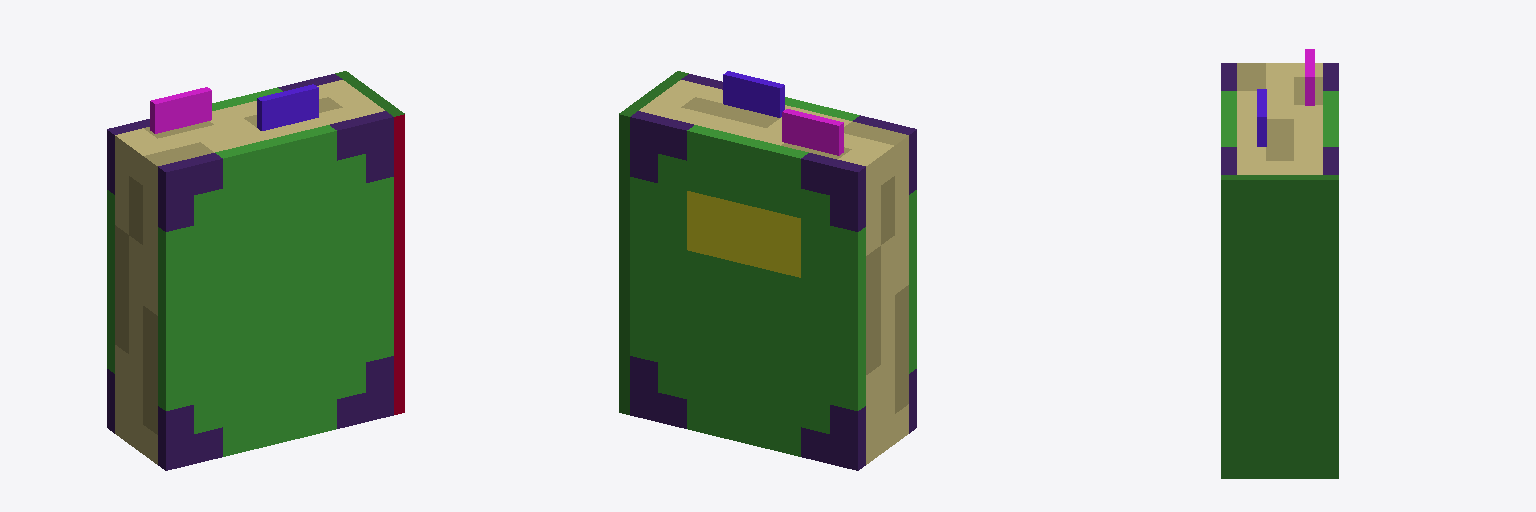
3 views of the same model, side by side, from view 1: azimuth 30°, elevation 25°; view 2: azimuth 150°, elevation 25°; view 3: azimuth 270°, elevation 25° (orthographic).
Parts seen in each view (by area): view 1: BackCover, Pages, Spine, FrontCover, Bookmark1, Bookmark3; view 2: FrontCover, Pages, Spine, BackCover, Bookmark3, Bookmark1; view 3: Spine, Pages, BackCover, FrontCover, Bookmark1, Bookmark3.
Part boxes in pixels (x1,y1,x2,y2): BackCover: (158,111,393,470); Pages: (115,80,384,464); Spine: (335,71,404,414); FrontCover: (107,74,342,433); Bookmark1: (257,84,318,130); Bookmark3: (150,87,211,133); FrontCover: (630,111,865,470); Pages: (639,80,908,464); Spine: (619,71,688,414); BackCover: (681,74,916,433); Bookmark3: (782,109,843,155); Bookmark1: (723,71,784,117); Spine: (1221,175,1338,478); Pages: (1237,63,1322,174); BackCover: (1221,63,1236,174); FrontCover: (1323,63,1338,174); Bookmark1: (1257,89,1266,146); Bookmark3: (1305,49,1314,105).
Bounding box in the file's own units: 0.525 × 0.6875 × 0.225.
Materials: 1 (1 with a texture image).